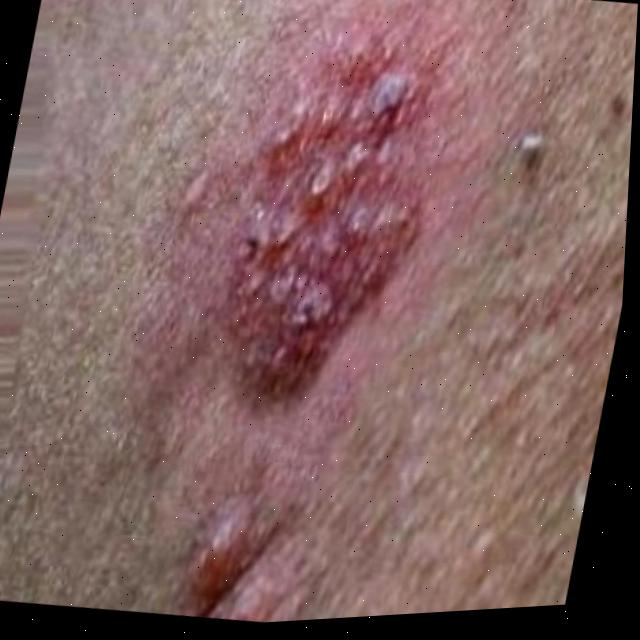Shingles: (211, 45, 444, 422), (189, 482, 273, 601)
